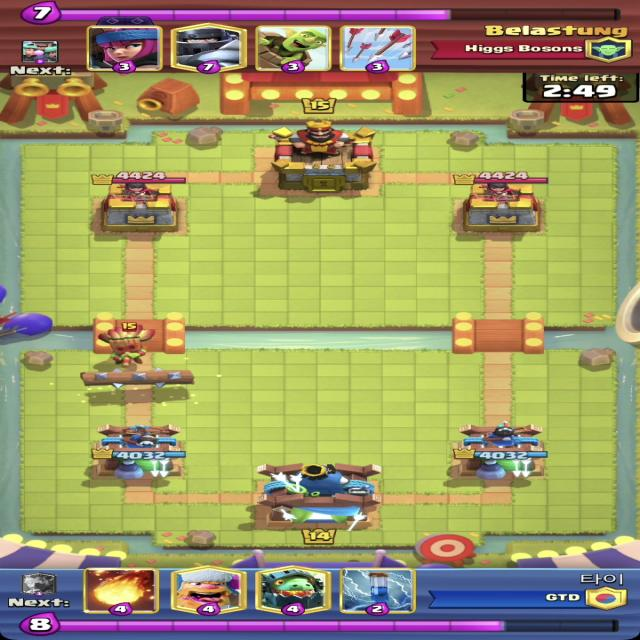Enemy-DartGoblin: (98, 322, 157, 368)
Player-Log: (78, 366, 197, 390)
